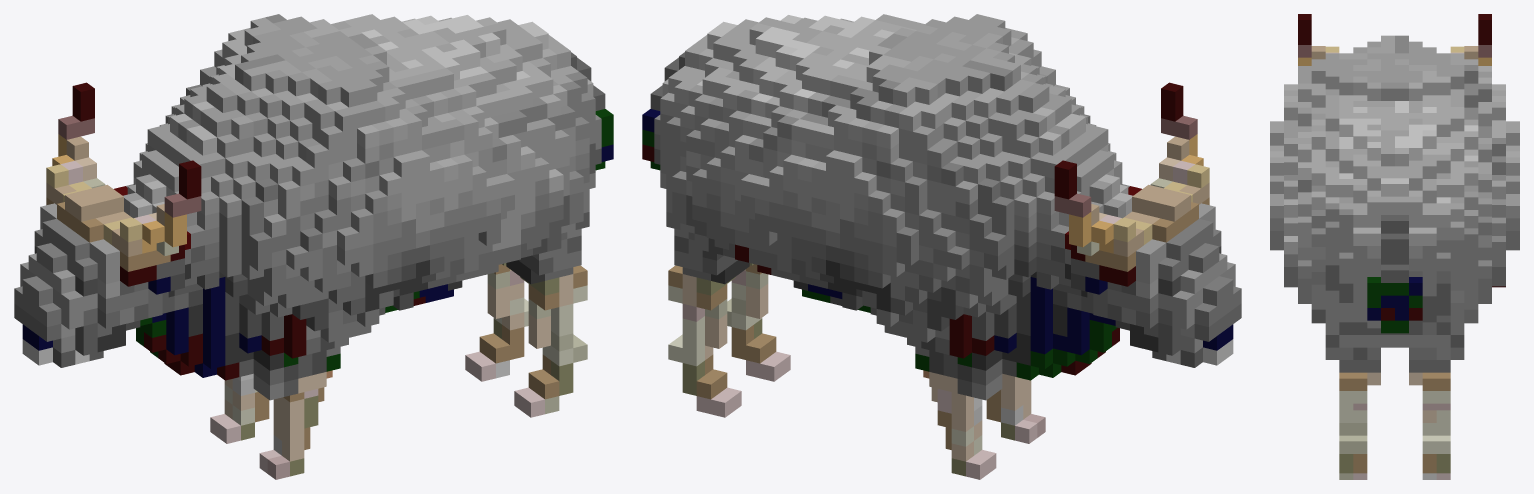
The model's file is gaur_cattle.gltf.
3 views of the same model, side by side, from view 1: azimuth 30°, elevation 25°; view 2: azimuth 150°, elevation 25°; view 3: azimuth 270°, elevation 25° (orthographic). The views are drawn at different scales.
Visible parts, largest first — view 1: Geode; view 2: Geode; view 3: Geode.
Part boxes in pixels (x1,y1,x2,y2): Geode: (14,14,613,479); Geode: (642,14,1241,479); Geode: (1270,14,1519,479).
Bounding box in the file's own units: 40 × 26 × 18.
